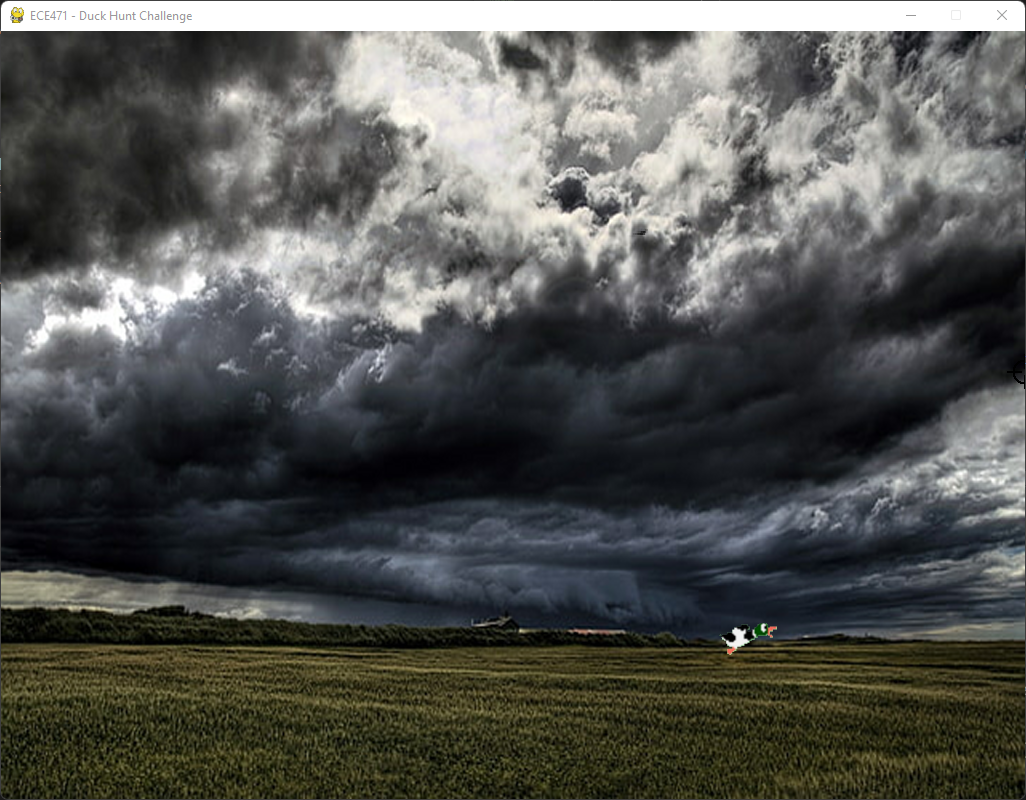black: (719, 616, 779, 660)
